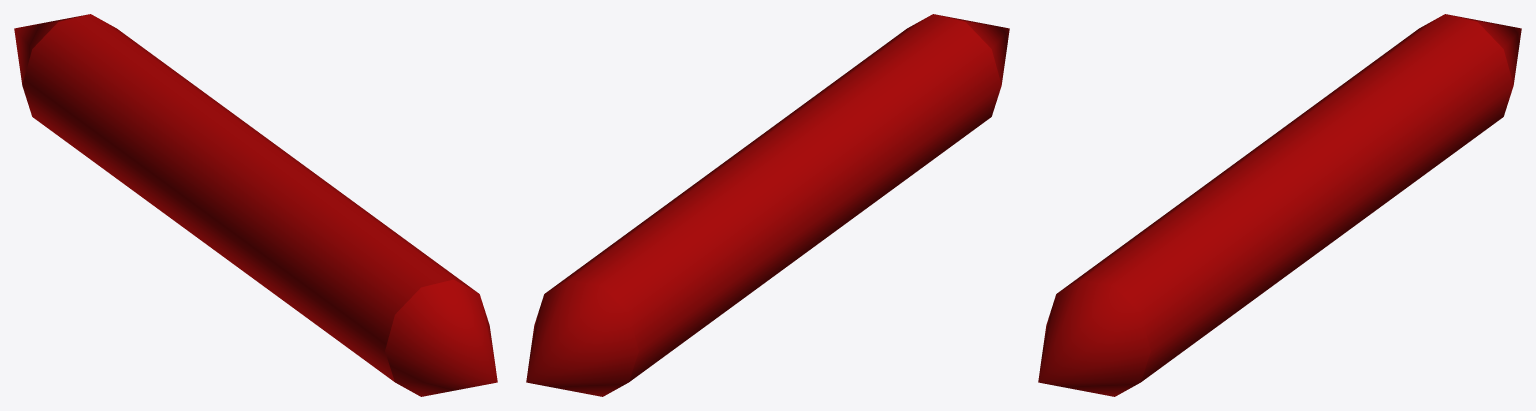
The model's file is laser1.fbx.
3 renders of one model, left to right at view 1: azimuth 30°, elevation 25°; view 2: azimuth 150°, elevation 25°; view 3: azimuth 330°, elevation 25°, orthographic.
Parts seen in each view (by area): view 1: Cylinder; view 2: Cylinder; view 3: Cylinder.
Part boxes in pixels (x1,y1,x2,y2): Cylinder: [14, 14, 497, 396]; Cylinder: [526, 14, 1009, 396]; Cylinder: [1038, 14, 1521, 396].
Size of the model in its own units: 0.05 by 0.05 by 0.4.
